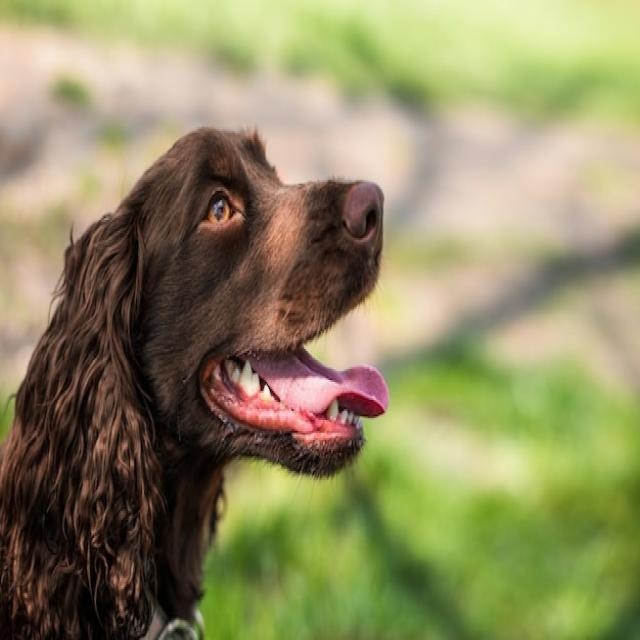Dog: (0, 129, 386, 640)
